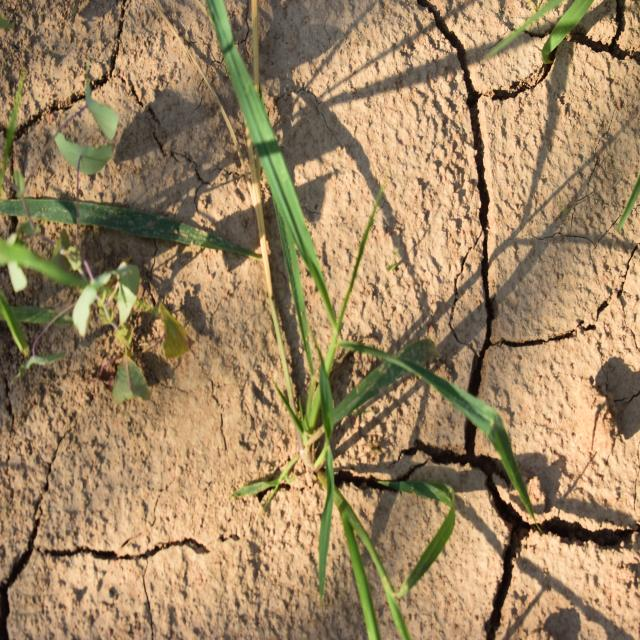green_foxtail: (234, 49, 425, 444)
